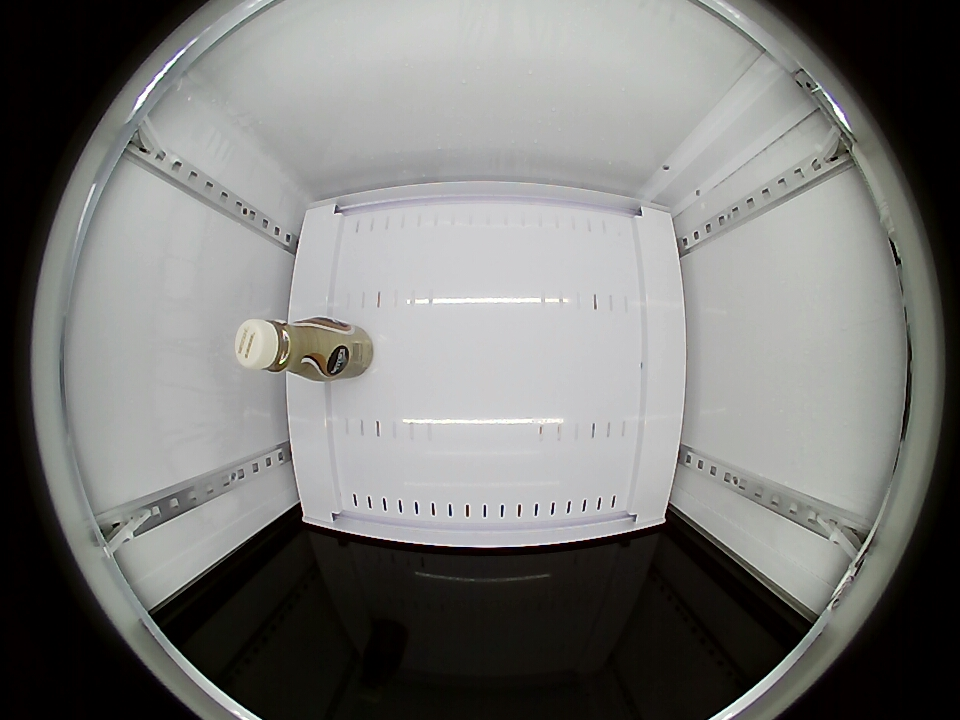kafei: (235, 317, 337, 379)
